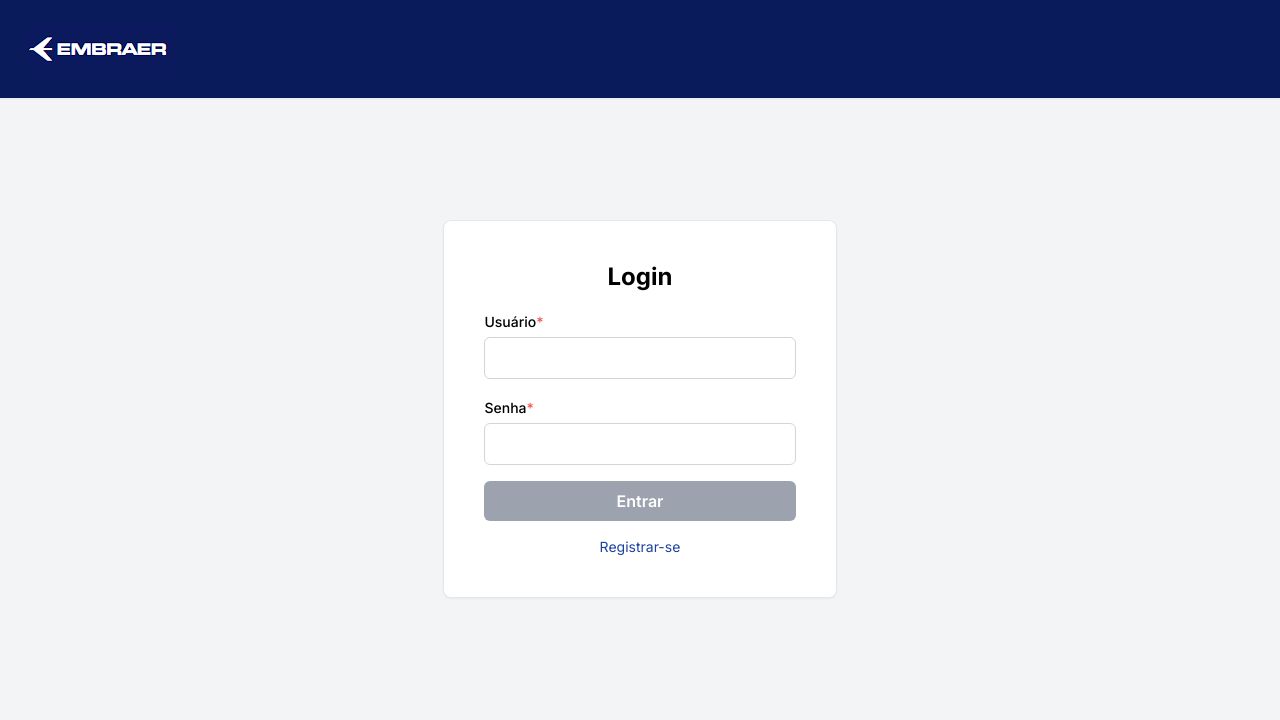
Test: Aplicação de Tarefas - E2E › Login com sucesso
Type "teste@teste.com" into the field named "username" at (641, 358), box [485, 337, 796, 379]
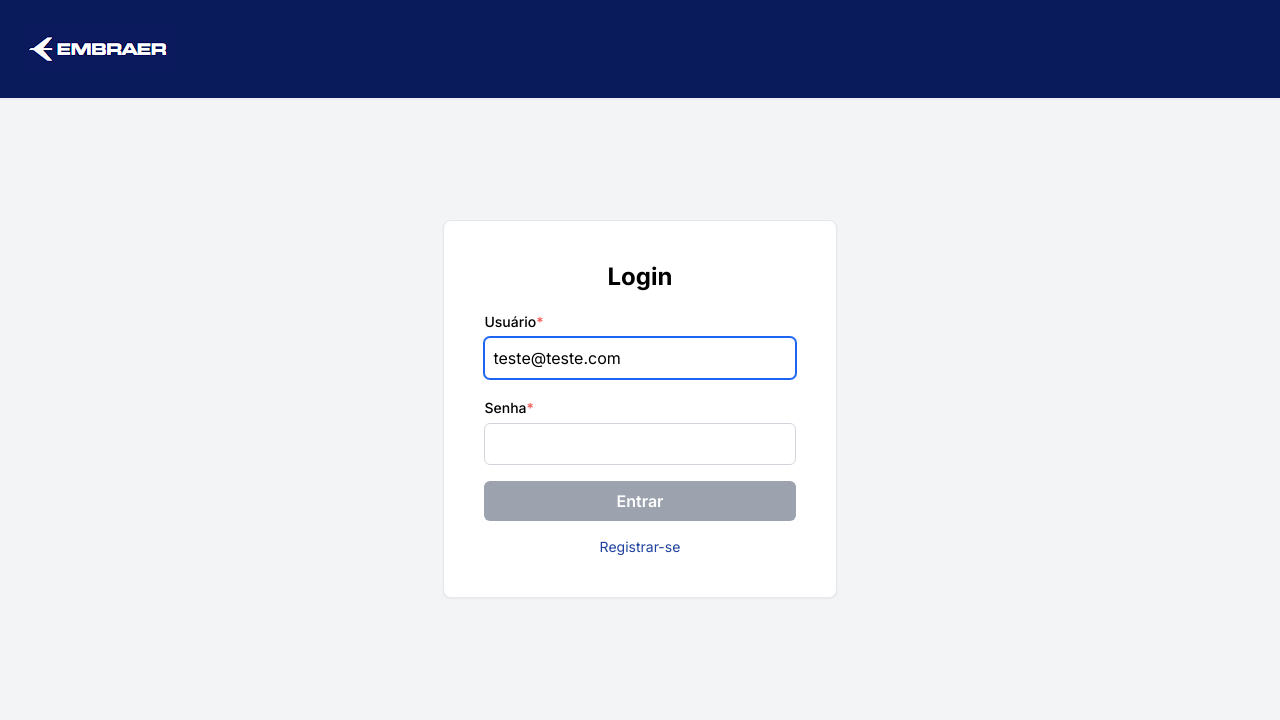
Type "senha@123" into the password field named "password" at (641, 444), box [485, 423, 796, 465]
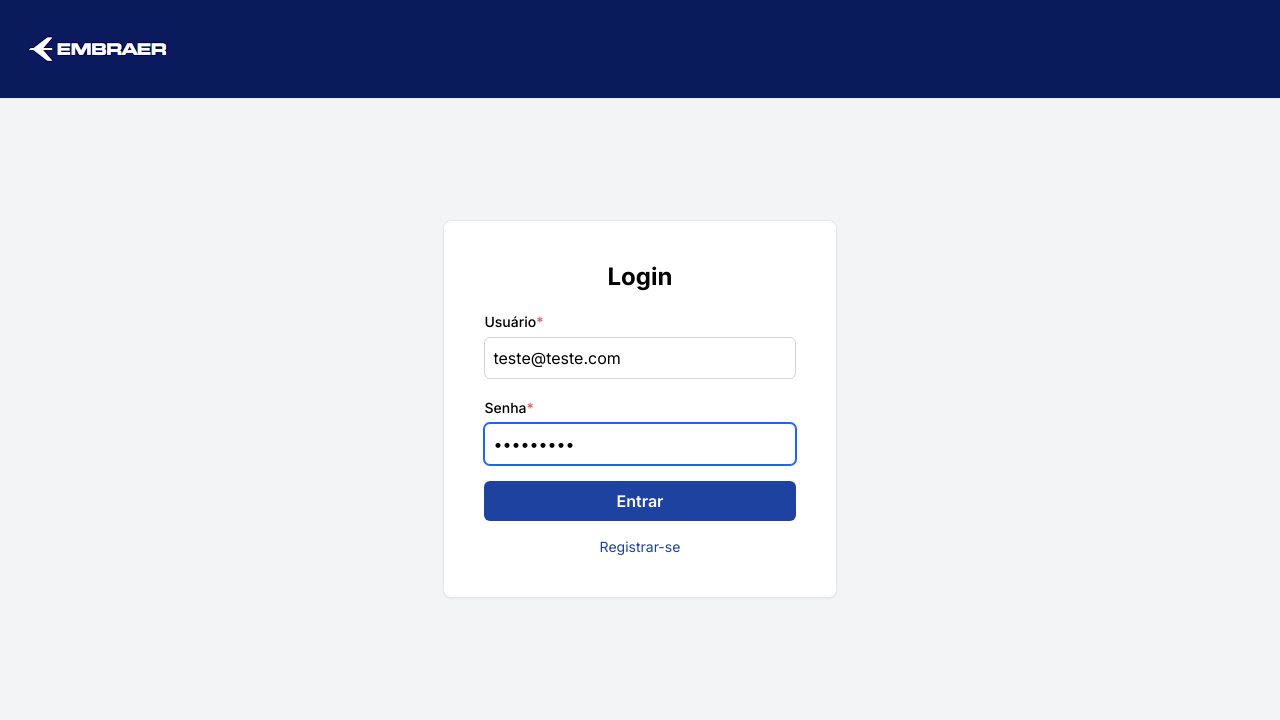
Click the button "Entrar" at (641, 501), box [485, 481, 796, 521]
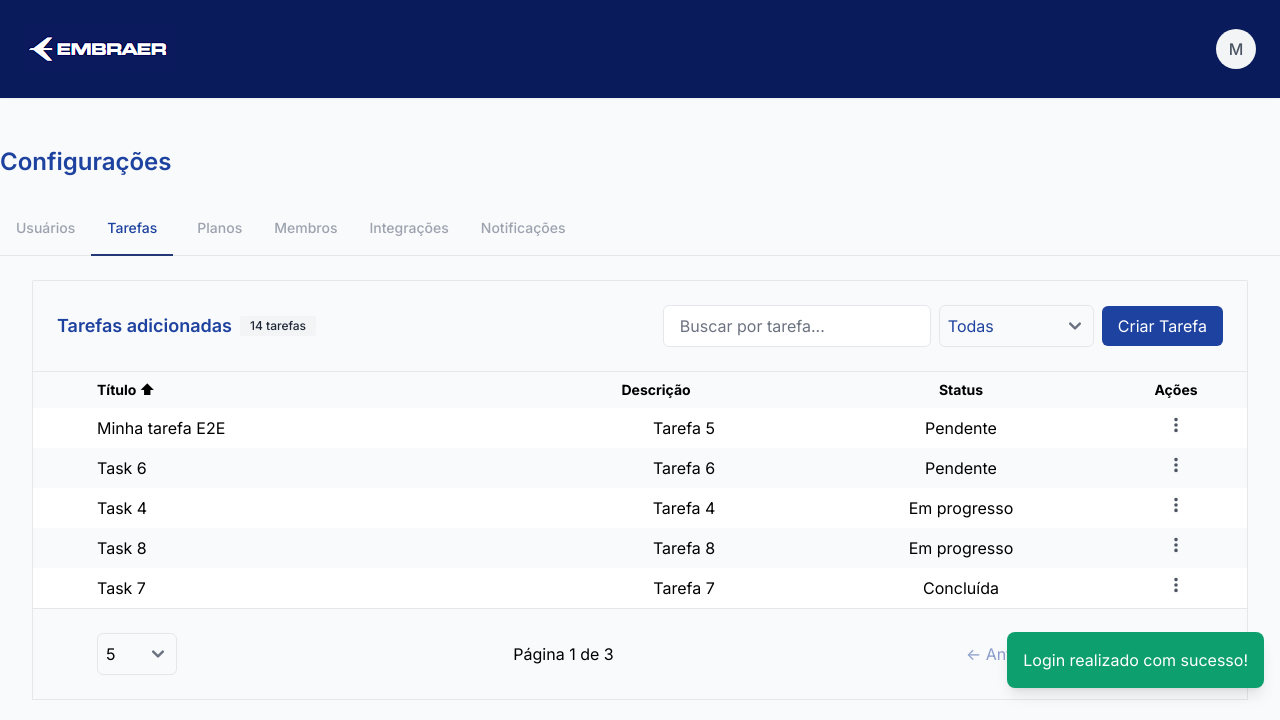
Result: the heading "Tarefas adicionadas" is shown at [57, 312, 232, 340]
